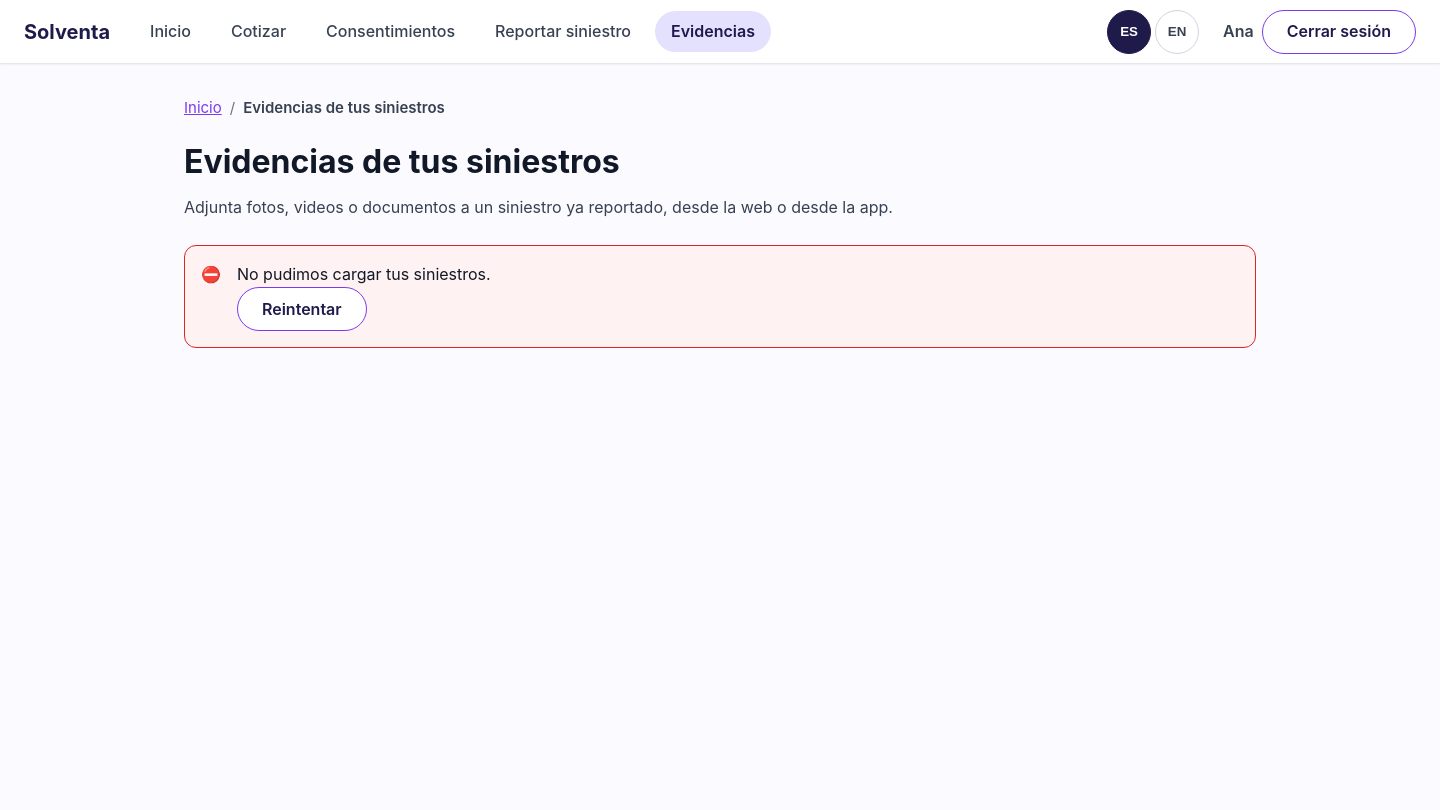
Evidencias de un siniestro ya reportado (MOB-F05, criterio 5) › si no cargan los siniestros o las evidencias, permite reintentar
Check: the message shows "No pudimos cargar tus siniestros.", box [237,264,491,284]
Click the button "Reintentar".
click(302, 309)  # box [237,287,367,331]
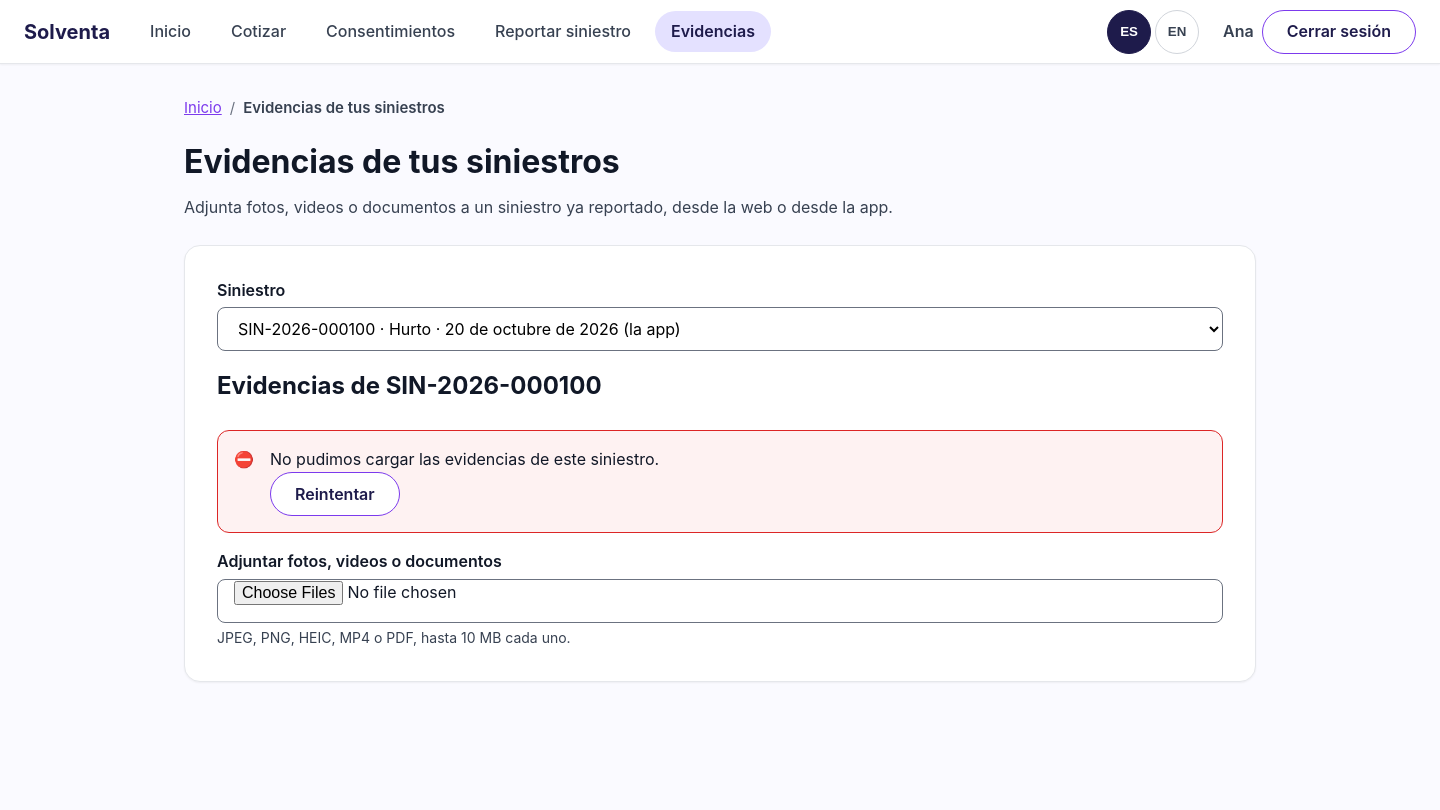
Check: the message shows "No pudimos cargar las evidencias de este siniestro.", box [270,449,659,469]
Click the button "Reintentar".
click(335, 494)  # box [270,472,400,516]
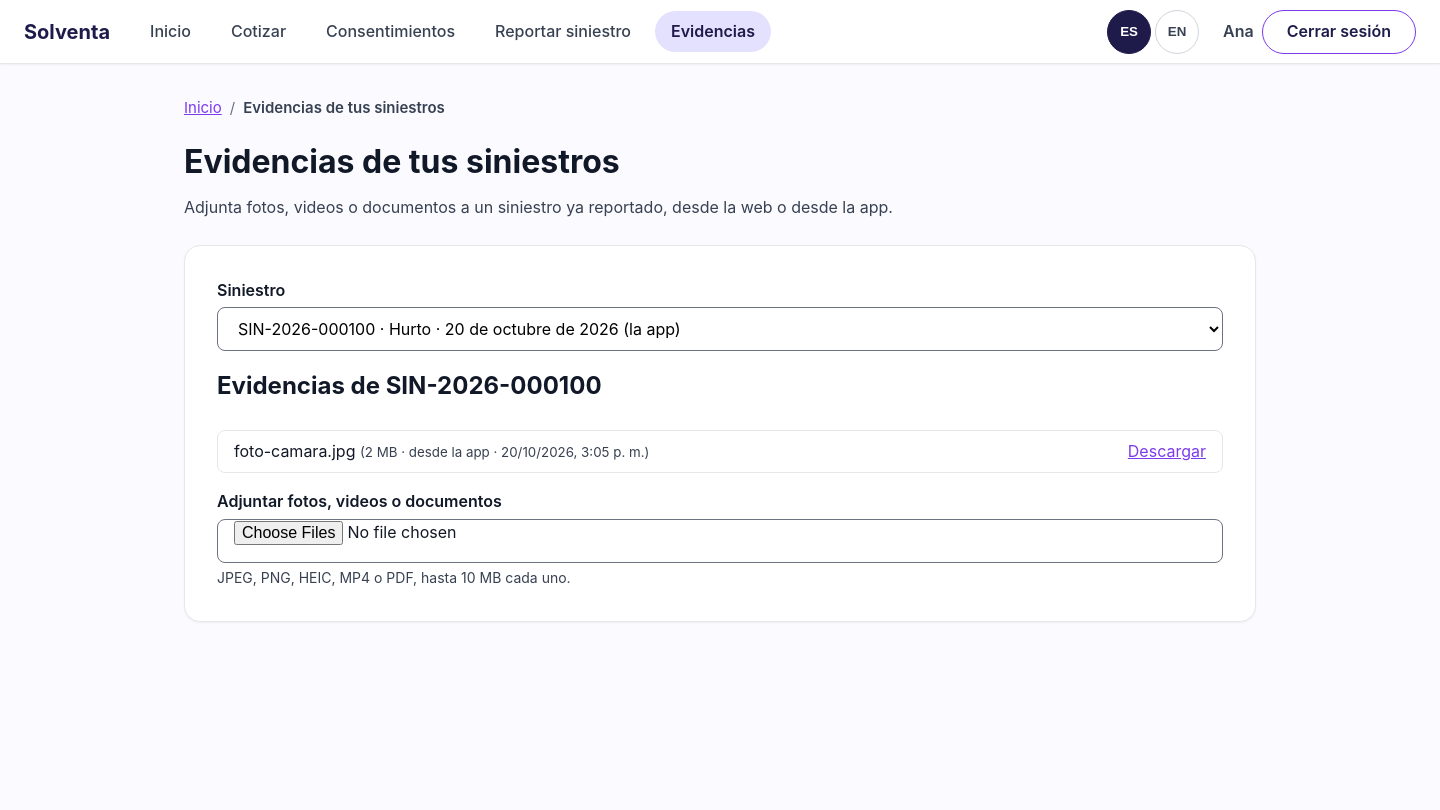
Check: the list named "Evidencias adjuntas" is shown, box [217,430,1223,473]
